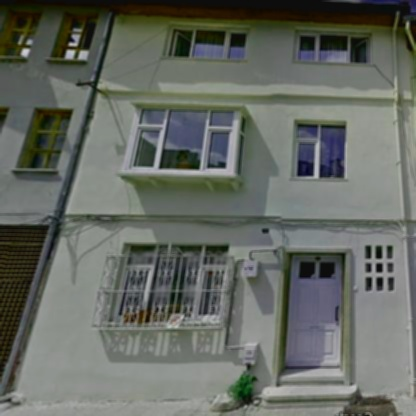door: (286, 255, 342, 367)
